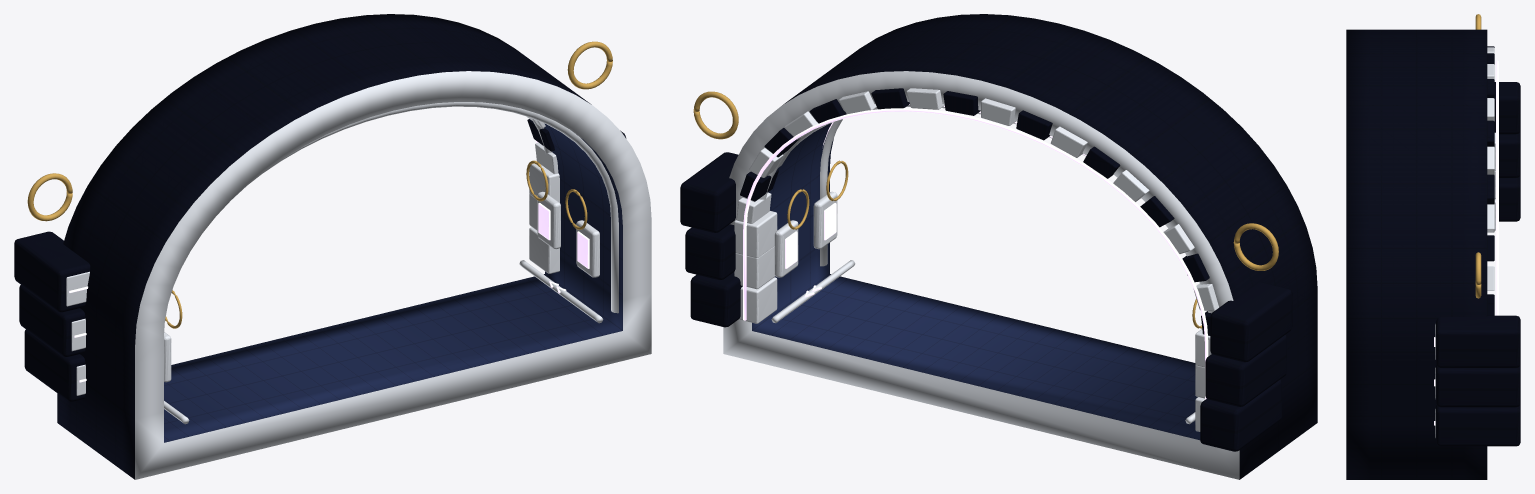
Rendered from portal_exit.glb.
3 views of the same model, side by side, from view 1: azimuth 30°, elevation 25°; view 2: azimuth 150°, elevation 25°; view 3: azimuth 270°, elevation 25° (orthographic). The views are drawn at different scales.
Parts seen in each view (by area): view 1: TunnelGeometry; view 2: TunnelGeometry; view 3: TunnelGeometry.
Part boxes in pixels (<box>): TunnelGeometry: <box>14,14,651,479</box>; TunnelGeometry: <box>680,14,1317,479</box>; TunnelGeometry: <box>1346,14,1520,479</box>.
Bounding box in the file's own units: 17.32 × 9.52 × 4.95.
Materials: 5 (2 with a texture image).
